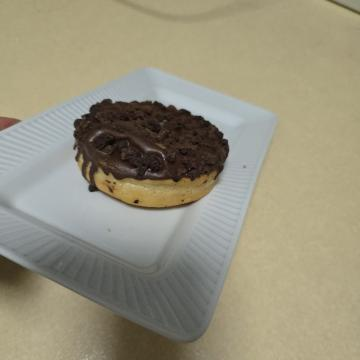doughnut: (84, 122, 218, 298)
